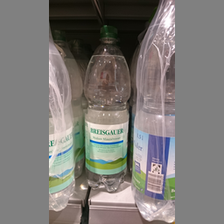water: (132, 2, 175, 224), (83, 23, 132, 191)
